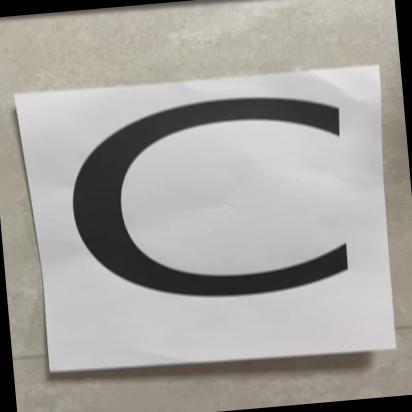seat: (17, 44, 412, 387)
